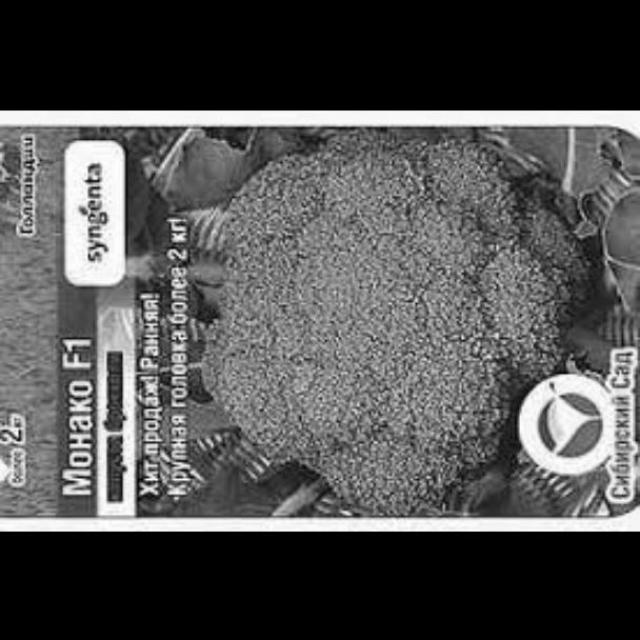broccoli: (200, 125, 598, 517)
